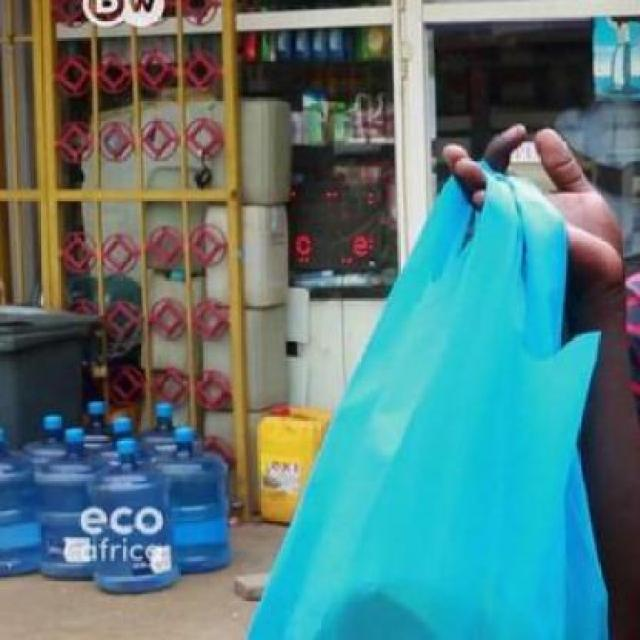plastic bag: (243, 184, 625, 638)
